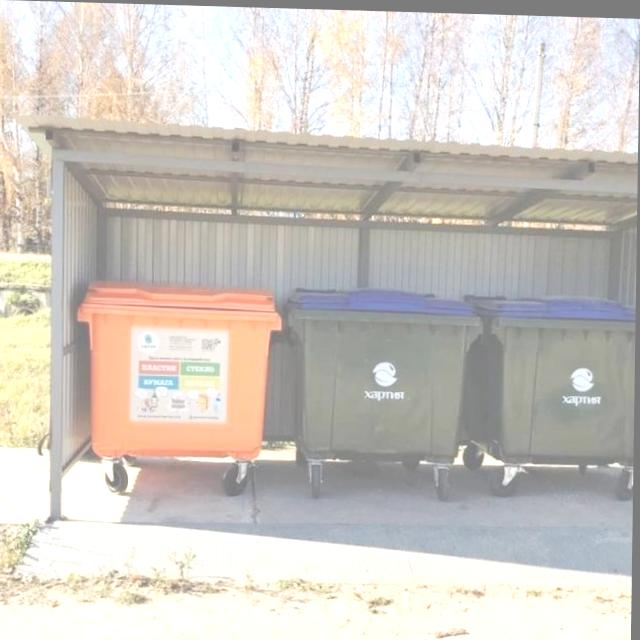Trash_Can_Closed: (75, 275, 288, 464), (285, 283, 485, 462), (464, 289, 637, 464)
